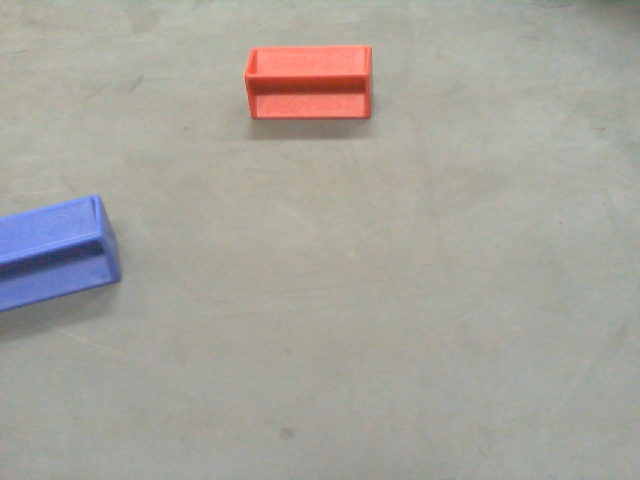BlueSample: (1, 190, 130, 312)
RedSample: (243, 43, 378, 120)
